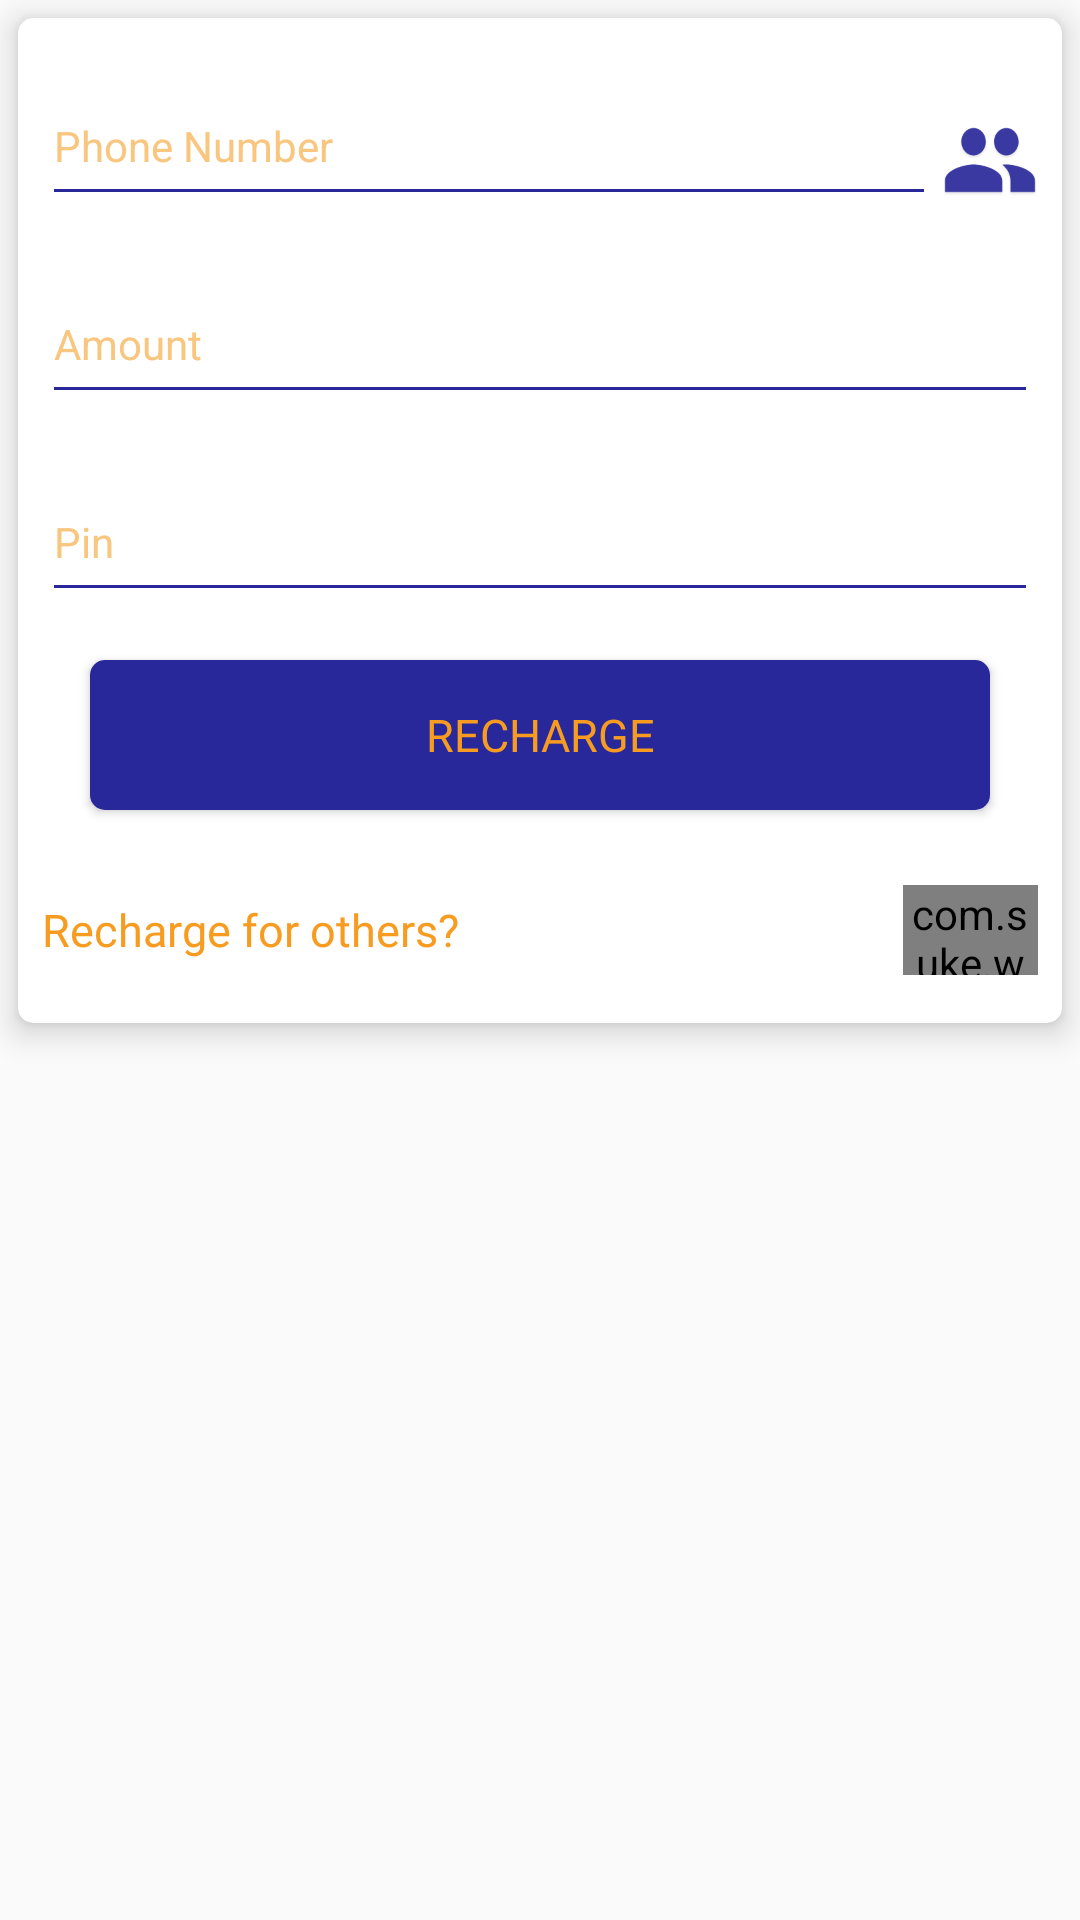

Icon bounding boxes for this 1080px x 1920px phone screenshot, format (x1=x1, y1=y1, x2=x2, y2=y2):
contact: (x1=944, y1=127, x2=1036, y2=193)
